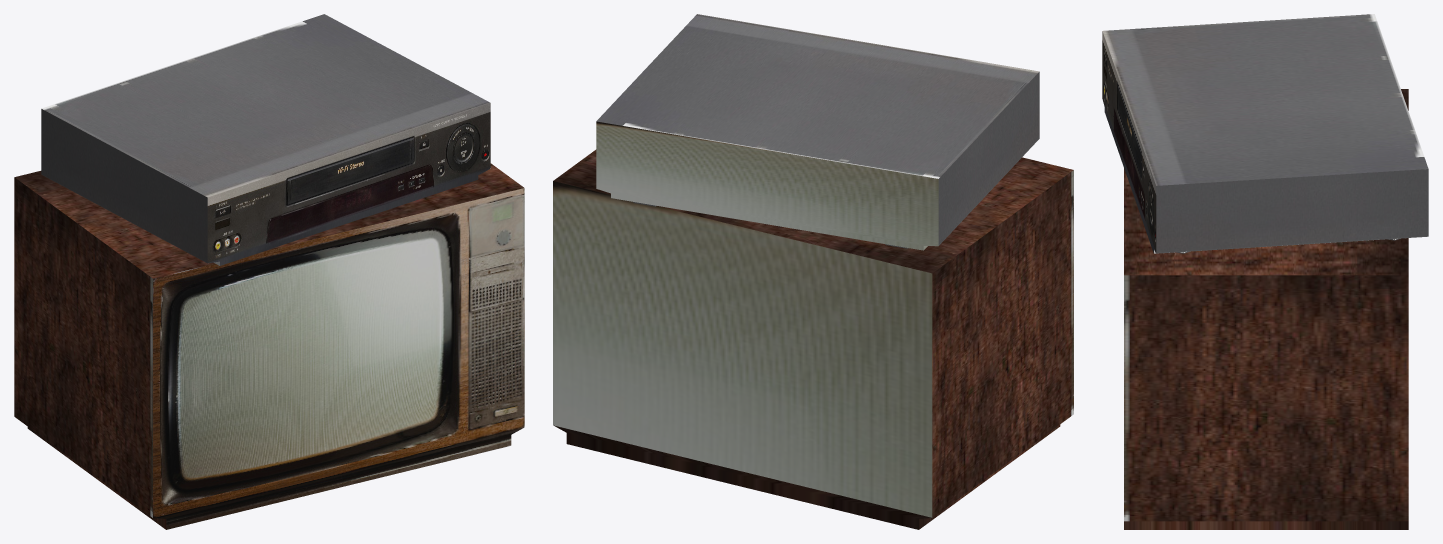
File: VHS 1.fbx
The picture shows the model from 3 angles, left to right: view 1: azimuth 30°, elevation 25°; view 2: azimuth 150°, elevation 25°; view 3: azimuth 270°, elevation 25°; orthographic projection. The views are drawn at different scales.
Visible parts, largest first — view 1: pCube4; view 2: pCube4; view 3: pCube4.
Boxes of the visible parts, x1,y1,x2,y2 form: pCube4: [14, 14, 524, 529]; pCube4: [553, 14, 1073, 529]; pCube4: [1102, 14, 1428, 529].
Size of the model in its own units: 1 by 0.8552 by 0.7401.
